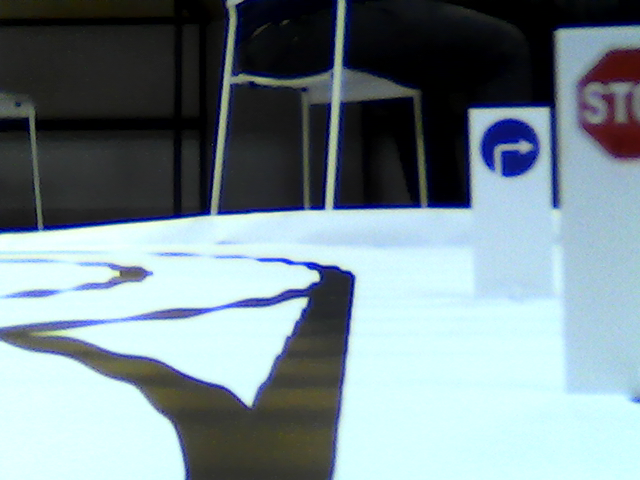Right: (478, 120, 538, 172)
Stop: (575, 43, 640, 165)
